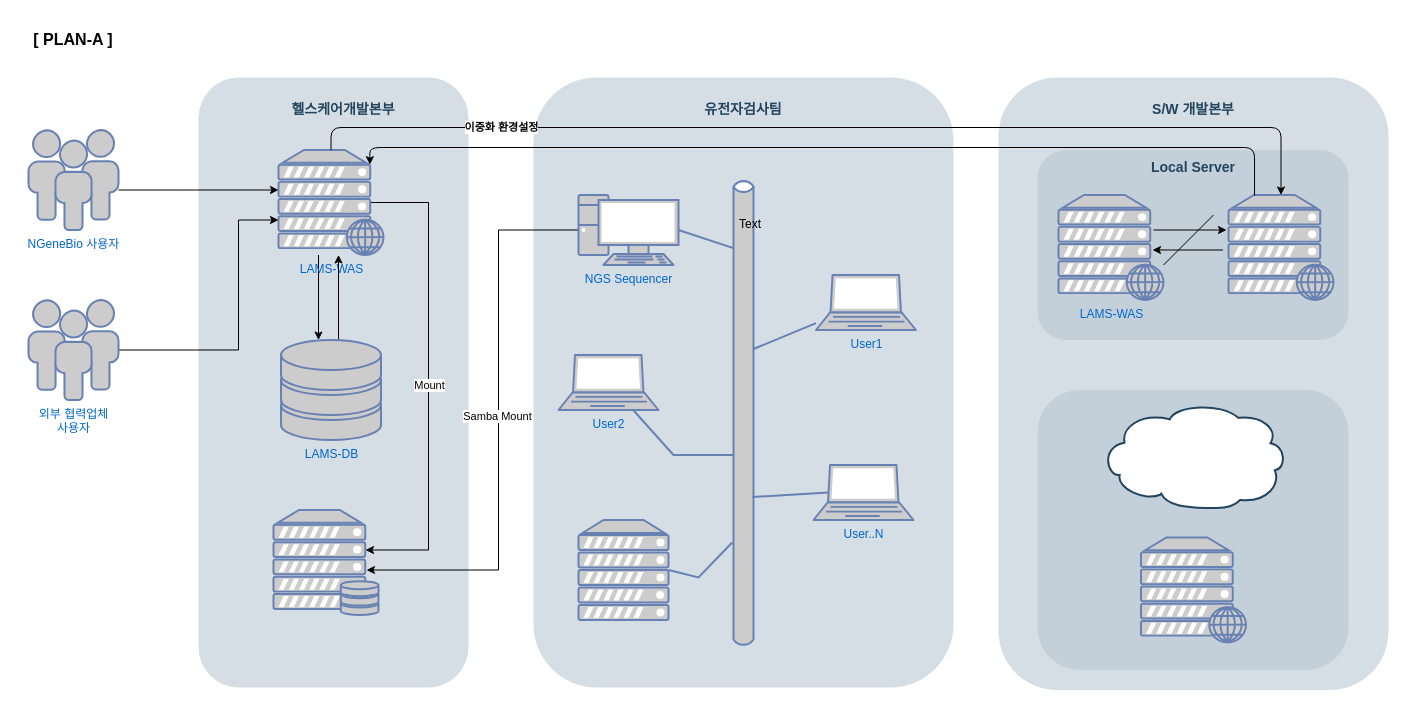
Image size: 1405x707. Some labels were removed from this diagram. The shapes that lost their labels are listed below. From the top down, each one's centre as x and y in pixels, then its label:
At [1280,247]: "LAMS-WAS 이중화".
At [1193,455]: "Google Cloud".
At [325,562]: "헬스케어개발본부 분석서버".
At [623,569]: "Windows 10".
At [1193,589]: "API".
